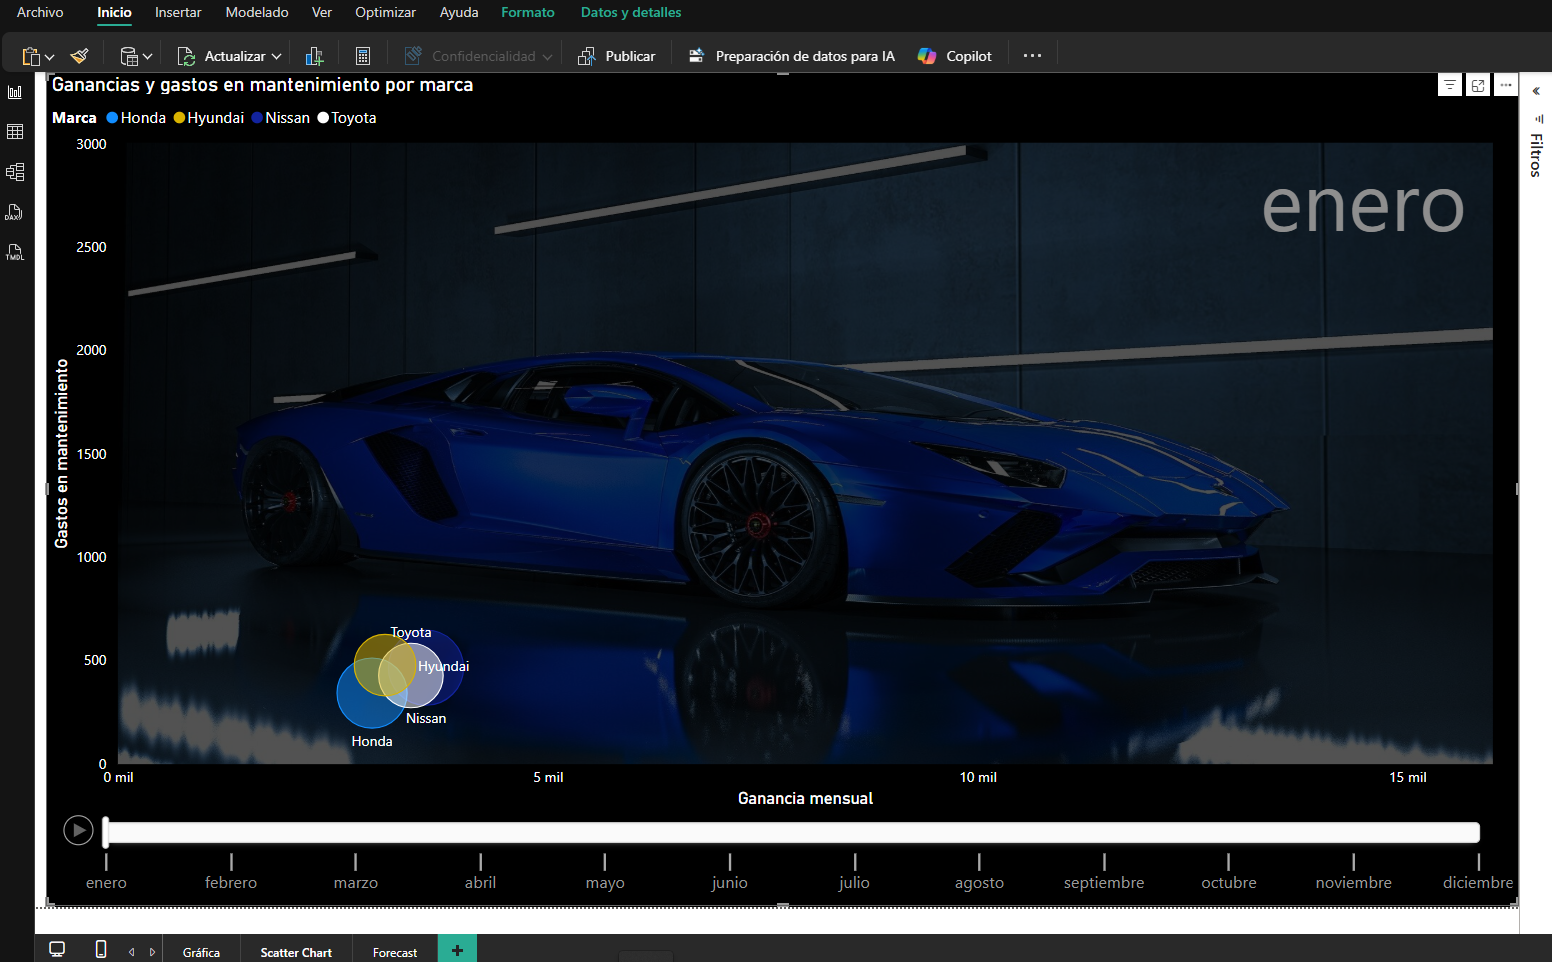

The page's visual inventory and layout, read from the dashboard file:
{"tool":"powerbi","page":{"name":"Scatter Chart","canvas":[1280,720],"ordinal":1},"visuals":[{"type":"scatterChart","title":"Ganancias y gastos en mantenimiento por marca","fields":{"X":["Sum(rentas_autos_forecast_updated.GananciaMensual)"],"Y":["Sum(rentas_autos_forecast_updated.GastoMensualMantenimiento)"],"Size":["CountNonNull(rentas_autos_forecast_updated.Marca)"],"Play":["rentas_autos_forecast_updated.Fecha.Variación.Jerarquía de fechas.Mes"],"Series":["rentas_autos_forecast_updated.Marca"]},"box":[9.7,0,1270.3,719.8],"z":0}]}

Visuals, with their boxes on the page's 1280x720 design canvas (x1, y1, x2, y2). These are canvas units, not pixel positions in the 1552x962 screenshot, which may show the page scaled, cropped or inside an application window:
"Ganancias y gastos en mantenimiento por marca" scatterChart: bbox=[10, 0, 1280, 720]
